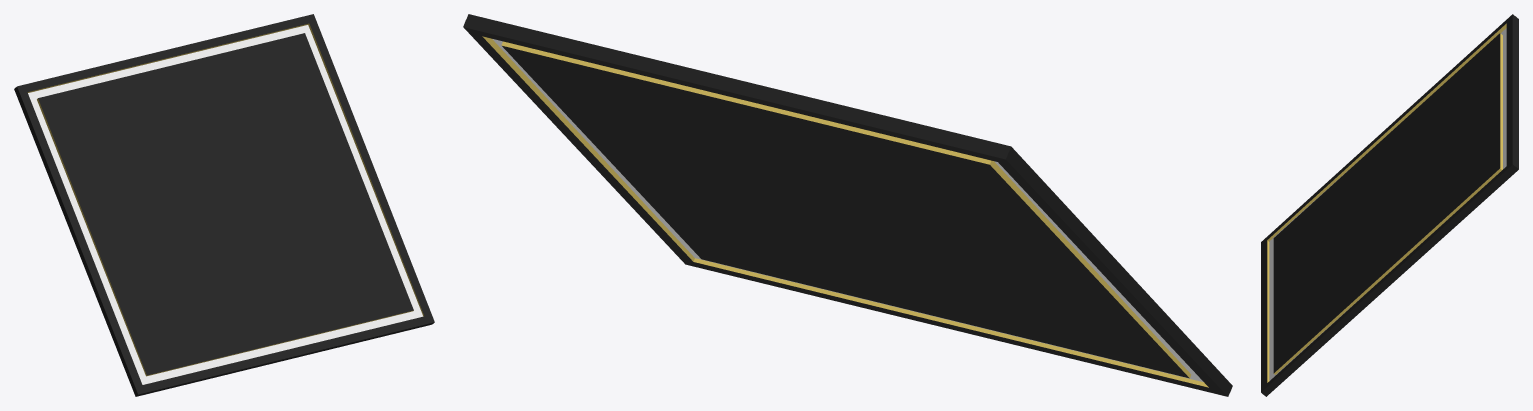
Rendered from FloorPaneledSlanted.fbx.
The picture shows the model from 3 angles, left to right: view 1: azimuth 30°, elevation 25°; view 2: azimuth 150°, elevation 25°; view 3: azimuth 270°, elevation 25°; orthographic projection. The views are drawn at different scales.
Visible parts, largest first — view 1: Cube.001, Cube.002; view 2: Cube.002, Cube.001; view 3: Cube.001, Cube.002.
Boxes of the visible parts, left/top/right/bottom form: Cube.001: left=15, top=14, right=434, bottom=396; Cube.002: left=14, top=25, right=431, bottom=396; Cube.002: left=463, top=19, right=1229, bottom=396; Cube.001: left=466, top=14, right=1232, bottom=392; Cube.001: left=1261, top=14, right=1515, bottom=395; Cube.002: left=1263, top=16, right=1518, bottom=396.
Bounding box in the file's own units: 400 × 288 × 290.
